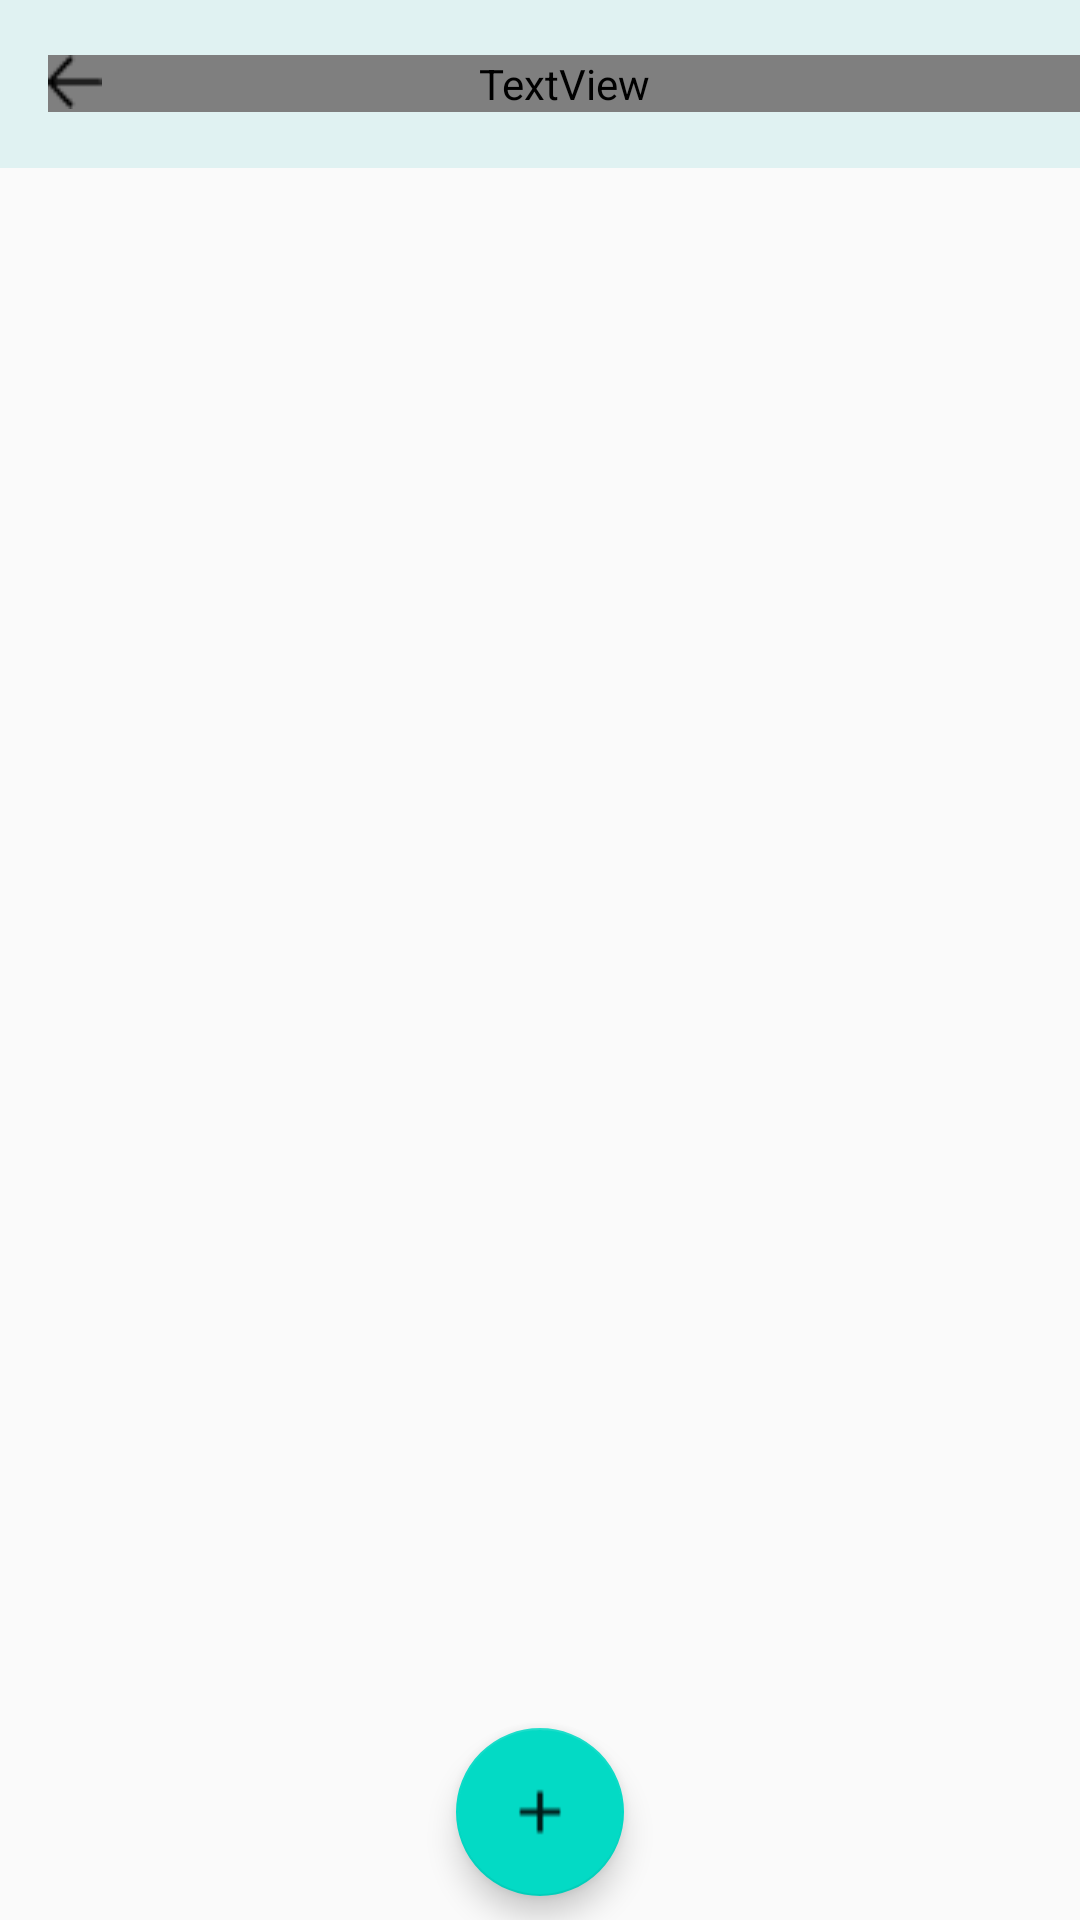

Where icons sit on this 1080px x 1920px app screen, as {"x1": x1, "y1": y1, "x2": x2, "y2": y2}:
add: {"x1": 456, "y1": 1728, "x2": 624, "y2": 1896}
back: {"x1": 48, "y1": 55, "x2": 102, "y2": 109}
